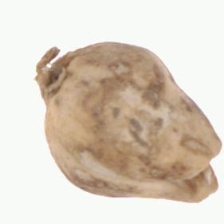L1: (185, 133, 222, 201), (35, 46, 67, 101)
L2: (36, 40, 221, 203)
